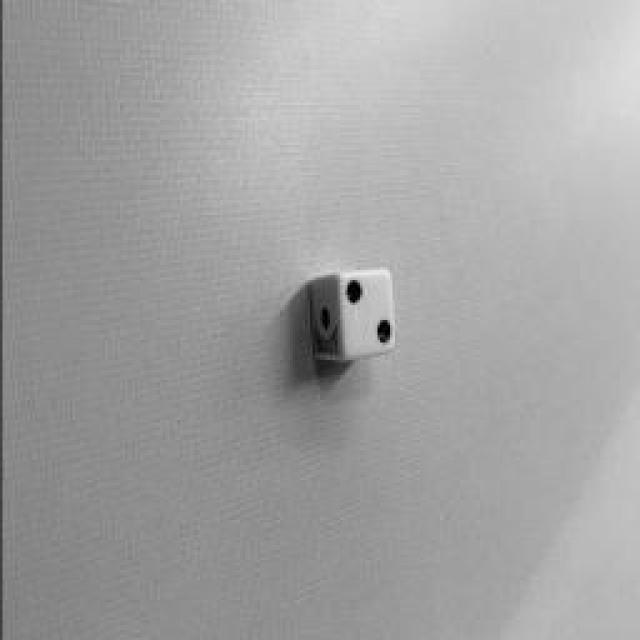dice_2: (340, 270, 395, 360)
